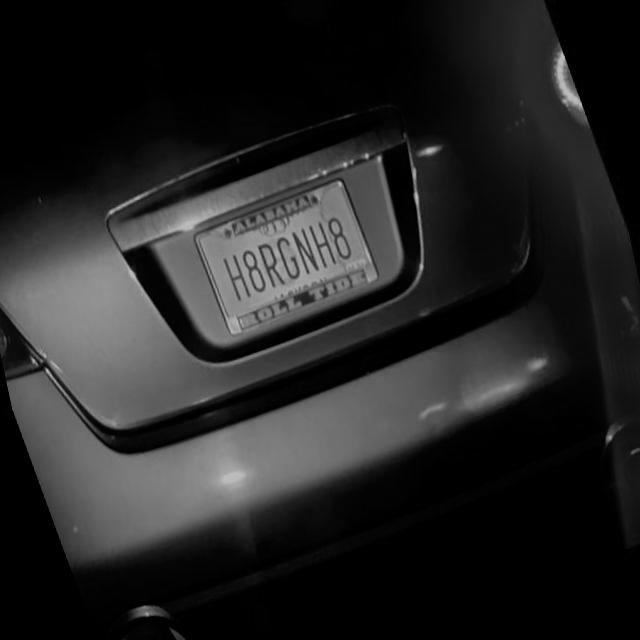LicensePlate: (191, 176, 379, 335)
